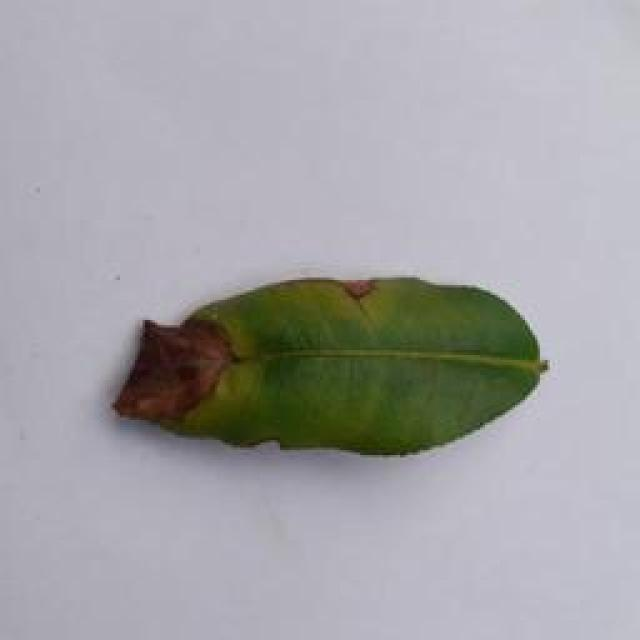Brown Blight: (97, 256, 549, 478)
